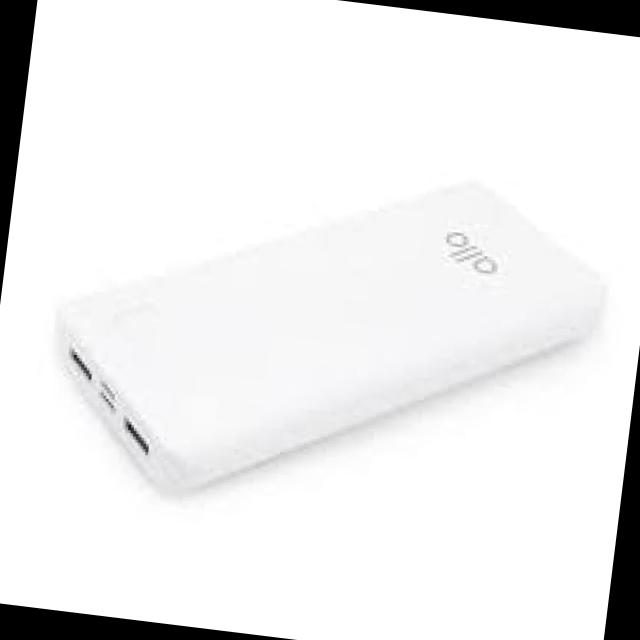portable-charger: (30, 128, 619, 542)
